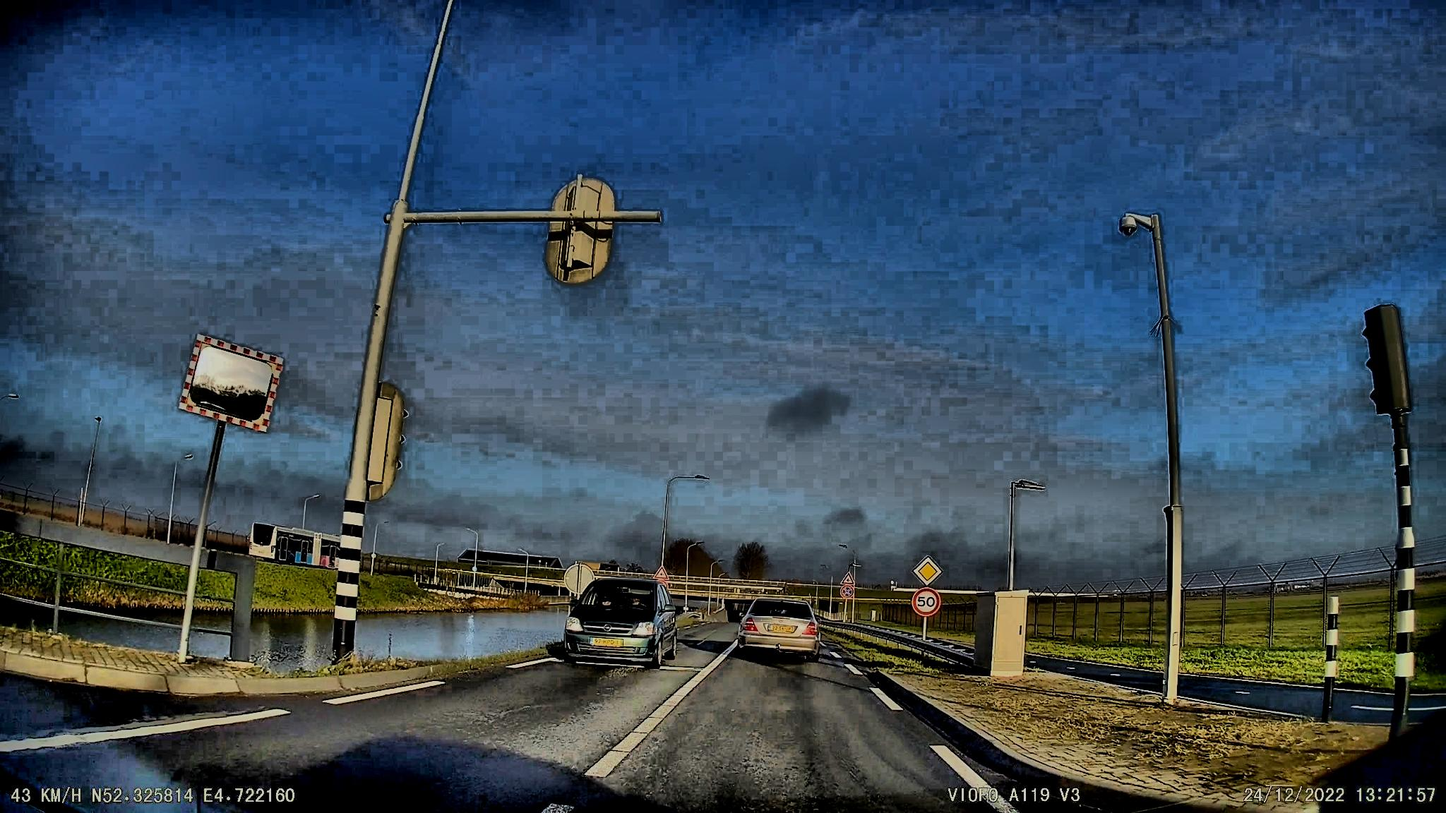Roads: (0, 625, 1261, 813)
